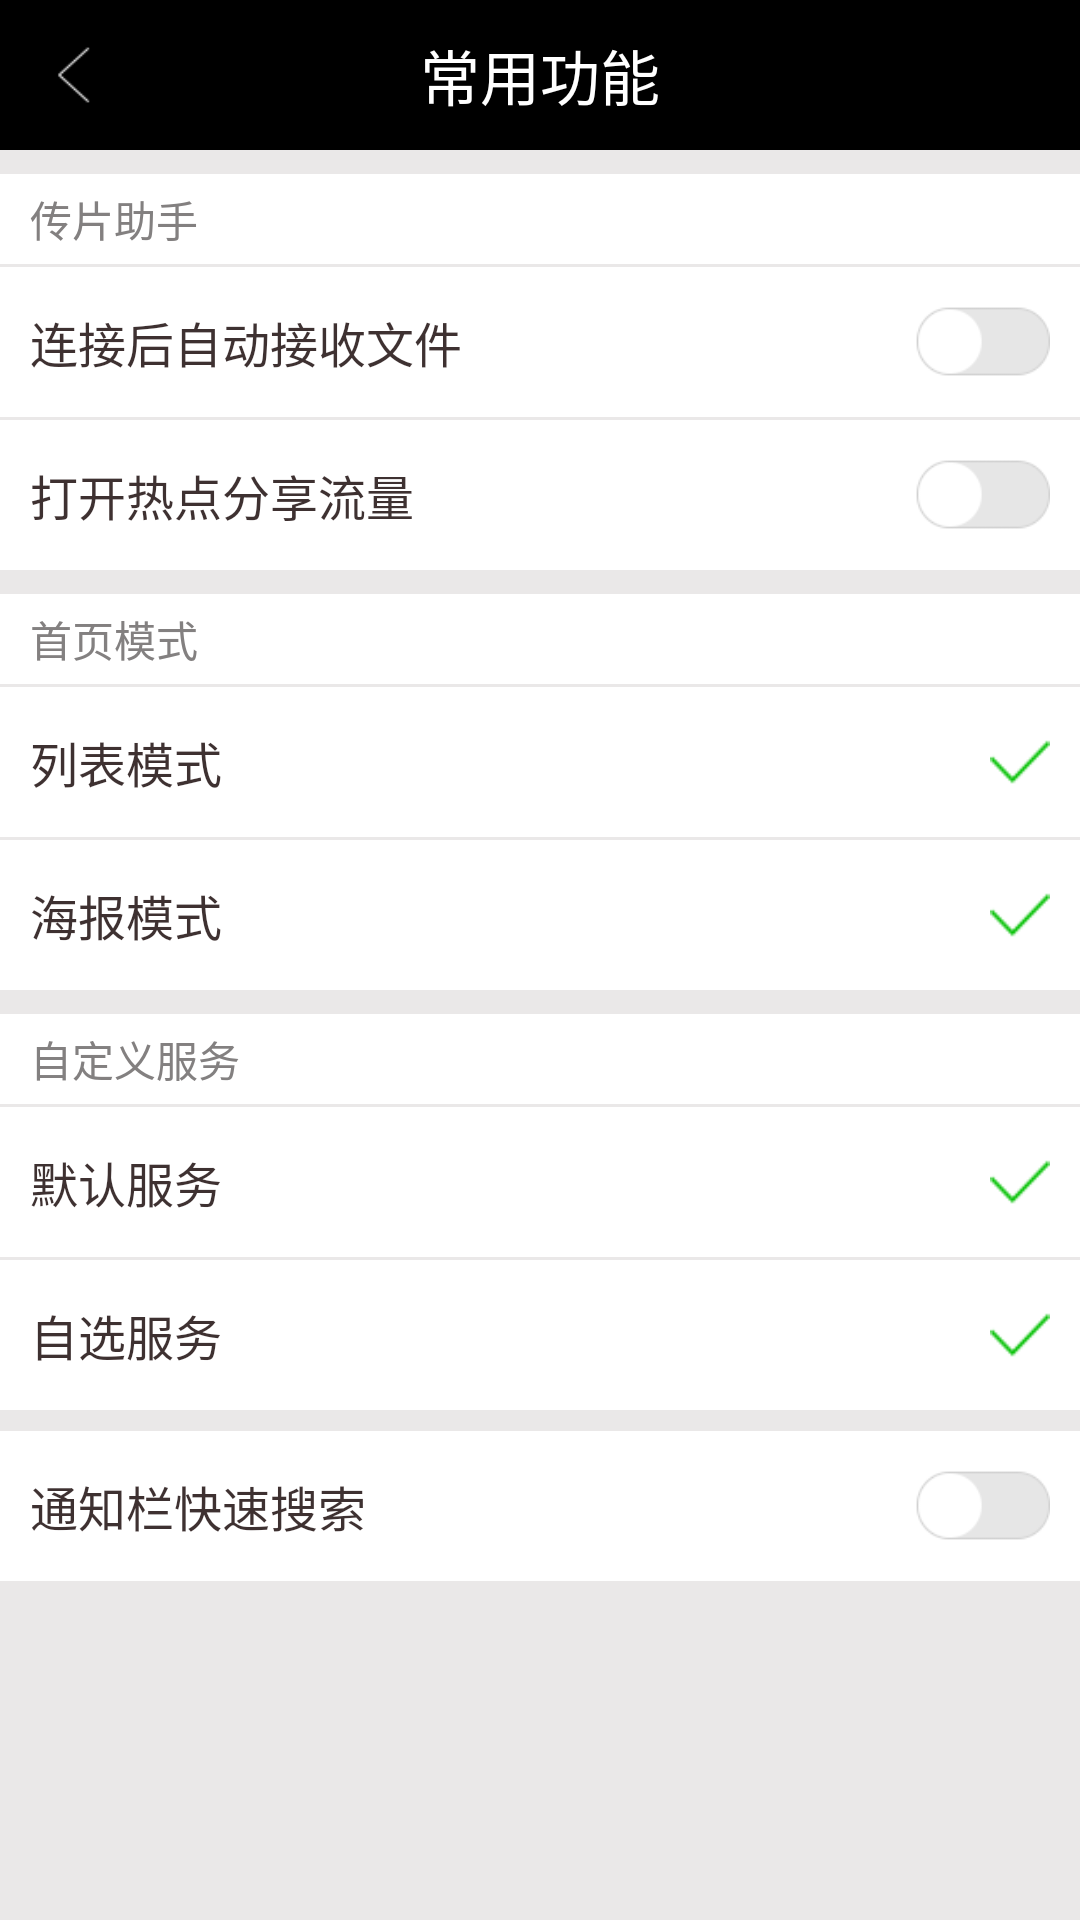

Named icons in this screenshot (1080*1920) and their bounding boxes, {"left": x1, "top": y1, "right": x2, "bottom": y2}:
phone account back: {"left": 58, "top": 47, "right": 90, "bottom": 103}
phone my setting switch: {"left": 917, "top": 308, "right": 1050, "bottom": 375}, {"left": 917, "top": 461, "right": 1050, "bottom": 528}, {"left": 917, "top": 1472, "right": 1050, "bottom": 1539}
